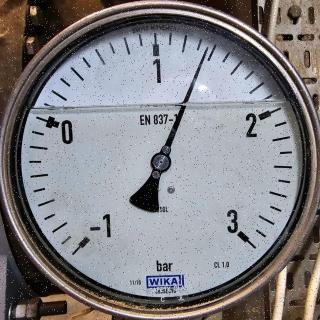gauge: (0, 0, 320, 320), (65, 210, 114, 264), (223, 216, 255, 248), (150, 151, 172, 173), (201, 43, 211, 57)
